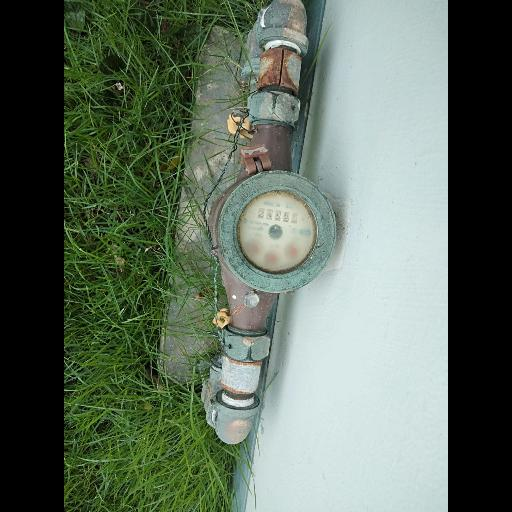2: (257, 208, 265, 219)
4: (266, 209, 273, 220)
5: (275, 211, 281, 221)
6: (283, 212, 289, 223)
border_water_meter_number: (256, 208, 298, 225)
